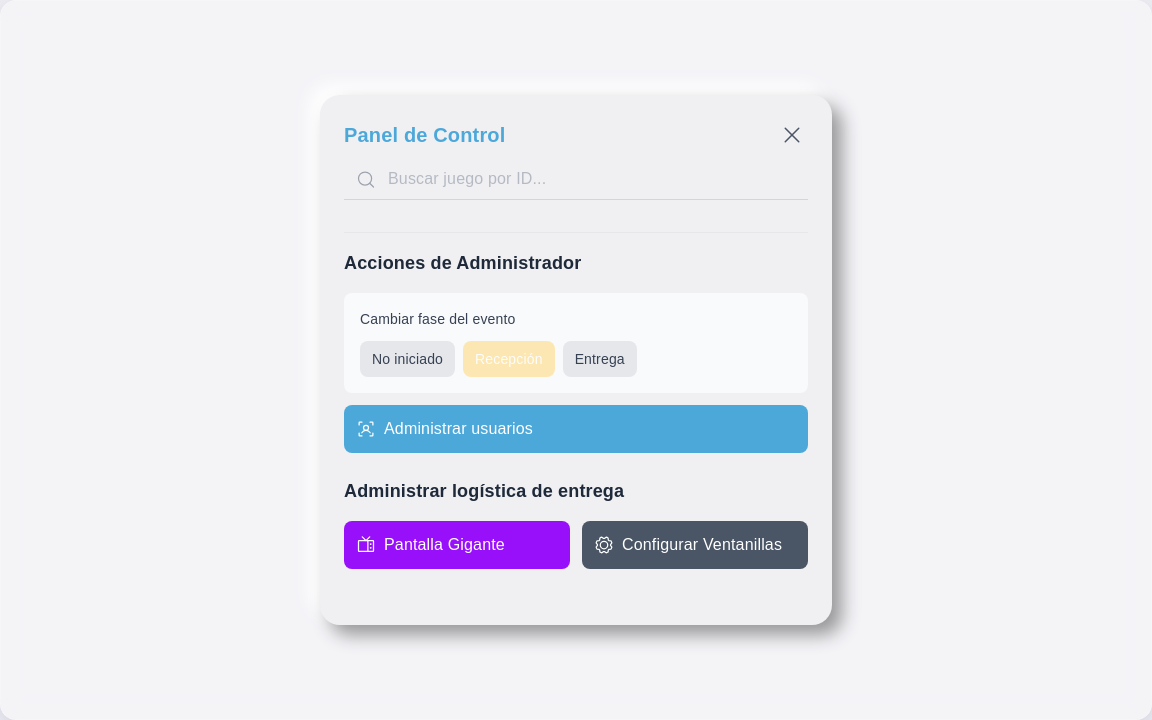
ControlPanelModal › displays a loading spinner when updating event phase
Click the button "Entrega".
click(600, 359)  # box [563, 341, 637, 377]
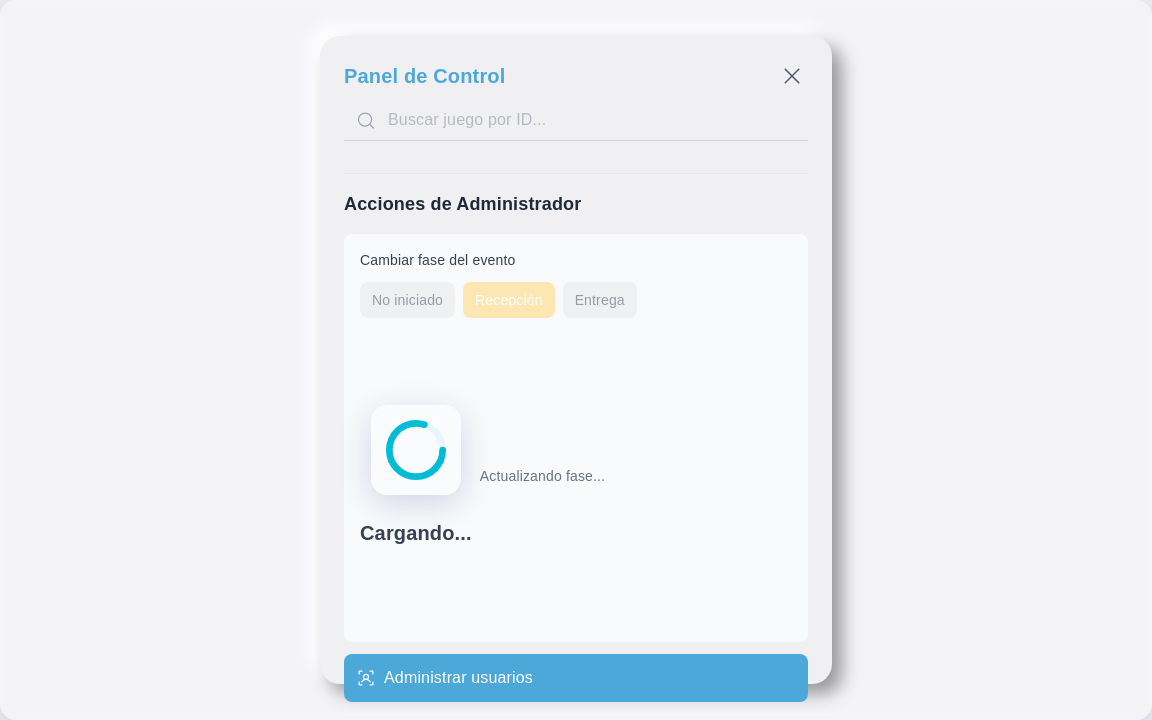
expect the text "Actualizando fase..." is shown: met, box [480, 466, 605, 486]
